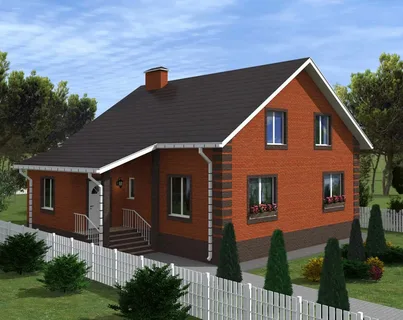private_hause: (35, 73, 361, 241)
